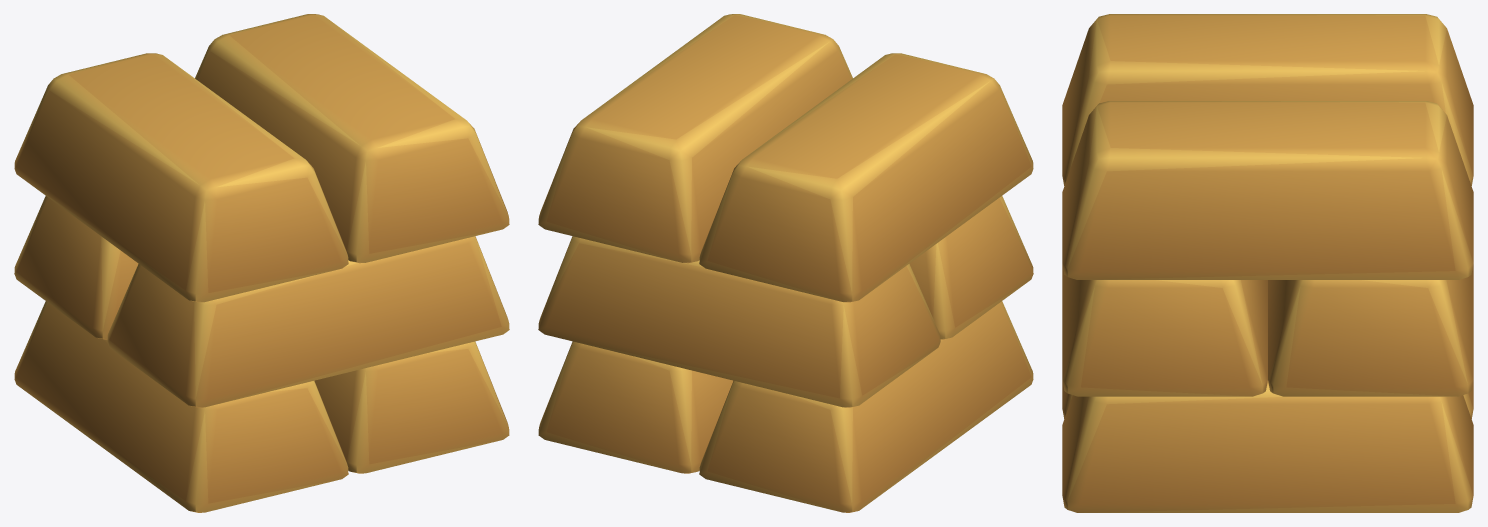
Rendered from pile-lingots-or.glb.
3 renders of one model, left to right at view 1: azimuth 30°, elevation 25°; view 2: azimuth 150°, elevation 25°; view 3: azimuth 270°, elevation 25°, orthographic. The views are drawn at different scales.
Parts seen in each view (by area): view 1: Gold_Bars_Stack_Small; view 2: Gold_Bars_Stack_Small; view 3: Gold_Bars_Stack_Small.
Part boxes in pixels (x1,y1,x2,y2): Gold_Bars_Stack_Small: (14, 14, 509, 512); Gold_Bars_Stack_Small: (538, 14, 1033, 512); Gold_Bars_Stack_Small: (1062, 14, 1473, 512).
Bounding box in the file's own units: 0.8 × 0.75 × 0.8.
1 material, 1 textured.
